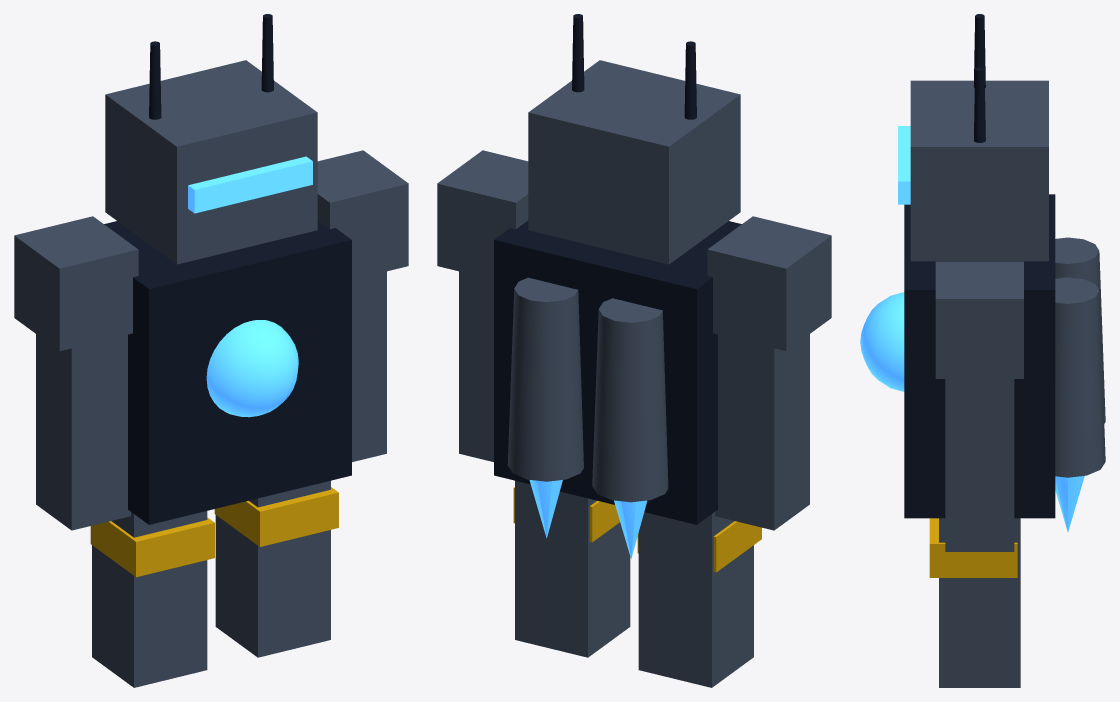
Rendered from avatar_robot.glb.
3 renders of one model, left to right at view 1: azimuth 30°, elevation 25°; view 2: azimuth 150°, elevation 25°; view 3: azimuth 270°, elevation 25°, orthographic. The views are drawn at different scales.
Parts seen in each view (by area): view 1: RobotTorso, RobotHead, RobotArm_0, RobotLeg_0, RobotLeg_1, Shoulder_0, Avatar_robot, Shoulder_1, PlasmaCore, RobotArm_1, LEDEyes, Antenna_0 (+1 smaller); view 2: RobotHead, RobotTorso, JetpackUnit, RobotLeg_0, RobotArm_0, RobotLeg_1, Shoulder_0, Shoulder_1, RobotArm_1, Avatar_robot, Antenna_0, Antenna_1; view 3: RobotHead, RobotTorso, JetpackUnit, RobotArm_1, Shoulder_1, RobotLeg_1, PlasmaCore, Avatar_robot, LEDEyes, Antenna_1, Antenna_0.
Boxes of the visible parts, bbox=[...] form: RobotTorso: bbox=[104, 220, 351, 524]; RobotHead: bbox=[105, 60, 317, 264]; RobotArm_0: bbox=[36, 334, 130, 530]; RobotLeg_0: bbox=[92, 511, 207, 687]; RobotLeg_1: bbox=[215, 480, 330, 657]; Shoulder_0: bbox=[14, 216, 138, 350]; Avatar_robot: bbox=[90, 487, 338, 577]; Shoulder_1: bbox=[317, 150, 408, 279]; PlasmaCore: bbox=[206, 320, 298, 417]; RobotArm_1: bbox=[352, 271, 386, 461]; LEDEyes: bbox=[188, 156, 312, 213]; Antenna_0: bbox=[149, 41, 161, 119]; RobotHead: bbox=[528, 60, 740, 264]; RobotTorso: bbox=[494, 220, 741, 524]; JetpackUnit: bbox=[507, 277, 668, 558]; RobotLeg_0: bbox=[638, 512, 753, 687]; RobotArm_0: bbox=[715, 334, 809, 530]; RobotLeg_1: bbox=[515, 480, 630, 657]; Shoulder_0: bbox=[707, 216, 831, 350]; Shoulder_1: bbox=[437, 150, 528, 279]; RobotArm_1: bbox=[459, 271, 493, 461]; Avatar_robot: bbox=[513, 487, 761, 572]; Antenna_0: bbox=[684, 41, 696, 119]; Antenna_1: bbox=[572, 14, 584, 92]; RobotHead: bbox=[910, 80, 1048, 261]; RobotTorso: bbox=[904, 194, 1055, 518]; JetpackUnit: bbox=[1055, 237, 1105, 532]; RobotArm_1: bbox=[945, 379, 1014, 551]; Shoulder_1: bbox=[935, 261, 1023, 378]; RobotLeg_1: bbox=[939, 518, 1020, 687]; PlasmaCore: bbox=[860, 292, 904, 391]; Avatar_robot: bbox=[929, 518, 1017, 577]; LEDEyes: bbox=[898, 126, 910, 204]; Antenna_1: bbox=[973, 67, 985, 142]; Antenna_0: bbox=[974, 14, 985, 87].
Bounding box in the file's own units: 1.24 × 2.1 × 0.78.
